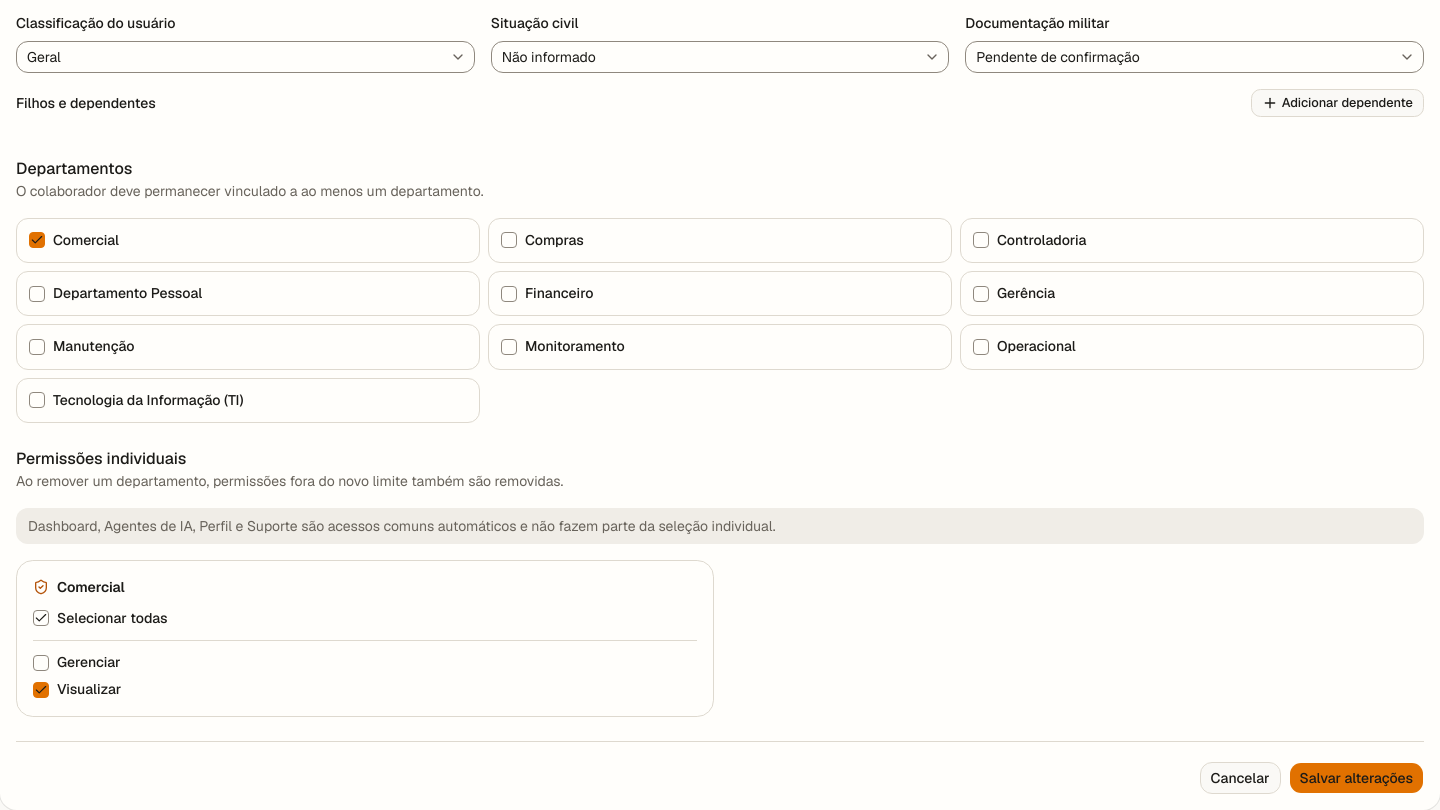
user editor form › supports an accessible indeterminate select-all checkbox per permission block
(page scrolled)
Click the checkbox named "Selecionar todas em Comercial" at (41, 618), box [33,610,49,626]
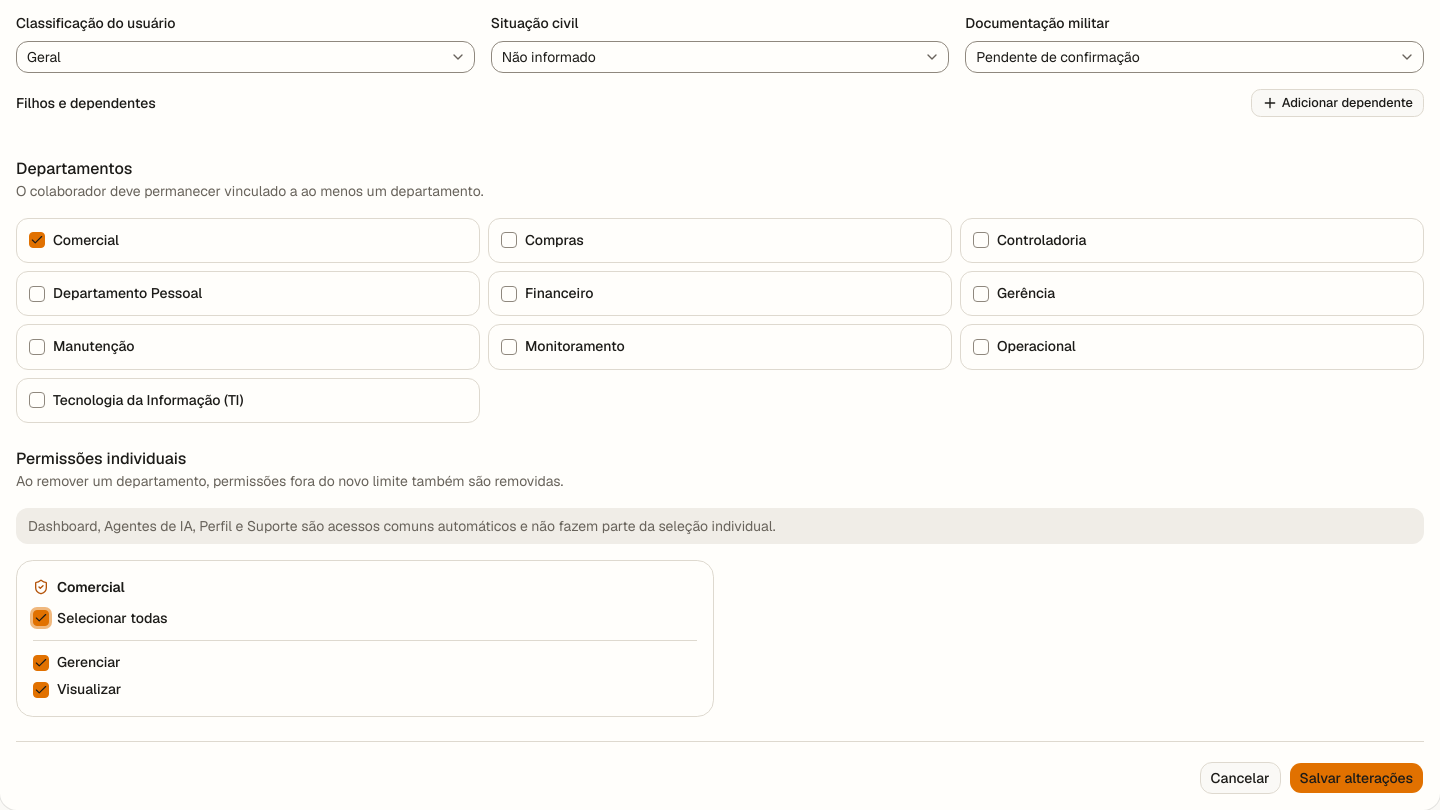
Expected: the checkbox named "Visualizar" next to "Visualizar" is checked, [33,682,49,698]
Expected: the checkbox named "Selecionar todas em Comercial" is checked, [33,610,49,626]
Expected: the checkbox named "Gerenciar" next to "Gerenciar" is checked, [33,655,49,671]
